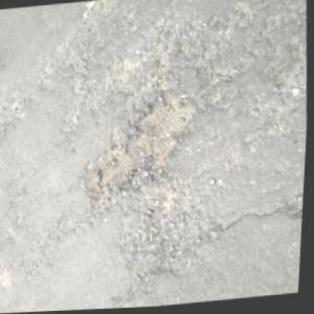Hueco: (73, 90, 201, 220)
